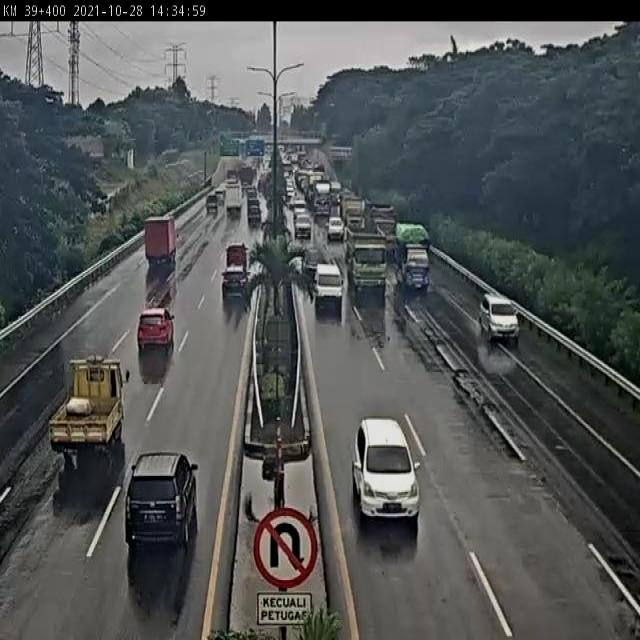Car: (351, 419, 424, 524), (126, 450, 200, 547), (135, 304, 177, 356), (479, 293, 520, 341), (218, 265, 252, 301), (225, 243, 249, 268), (324, 217, 346, 239), (294, 215, 314, 237), (247, 202, 262, 225), (206, 194, 220, 213)
Truck: (48, 354, 134, 474), (339, 223, 389, 301), (394, 221, 436, 288), (142, 212, 178, 270), (309, 182, 334, 222), (368, 204, 398, 228), (343, 197, 365, 227), (225, 181, 243, 215)
Van: (312, 262, 343, 311)
